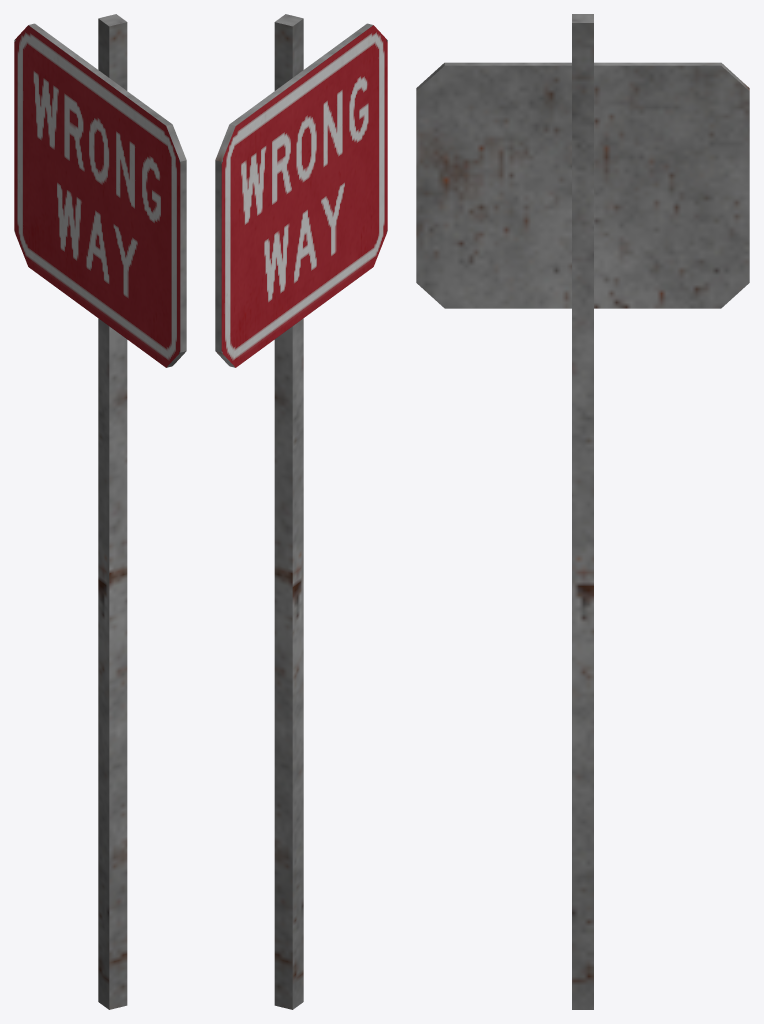
The model's file is Sign_WrongWay.obj.
The picture shows the model from 3 angles, left to right: view 1: azimuth 30°, elevation 25°; view 2: azimuth 150°, elevation 25°; view 3: azimuth 270°, elevation 25°; orthographic projection.
Parts seen in each view (by area): view 1: Sign_WrongWay; view 2: Sign_WrongWay; view 3: Sign_WrongWay.
Part boxes in pixels (bbox=[...]): Sign_WrongWay: bbox=[14, 14, 186, 1009]; Sign_WrongWay: bbox=[215, 14, 387, 1009]; Sign_WrongWay: bbox=[416, 14, 749, 1009].
Bounding box in the file's own units: 0.0576 × 2.21 × 0.6746.
